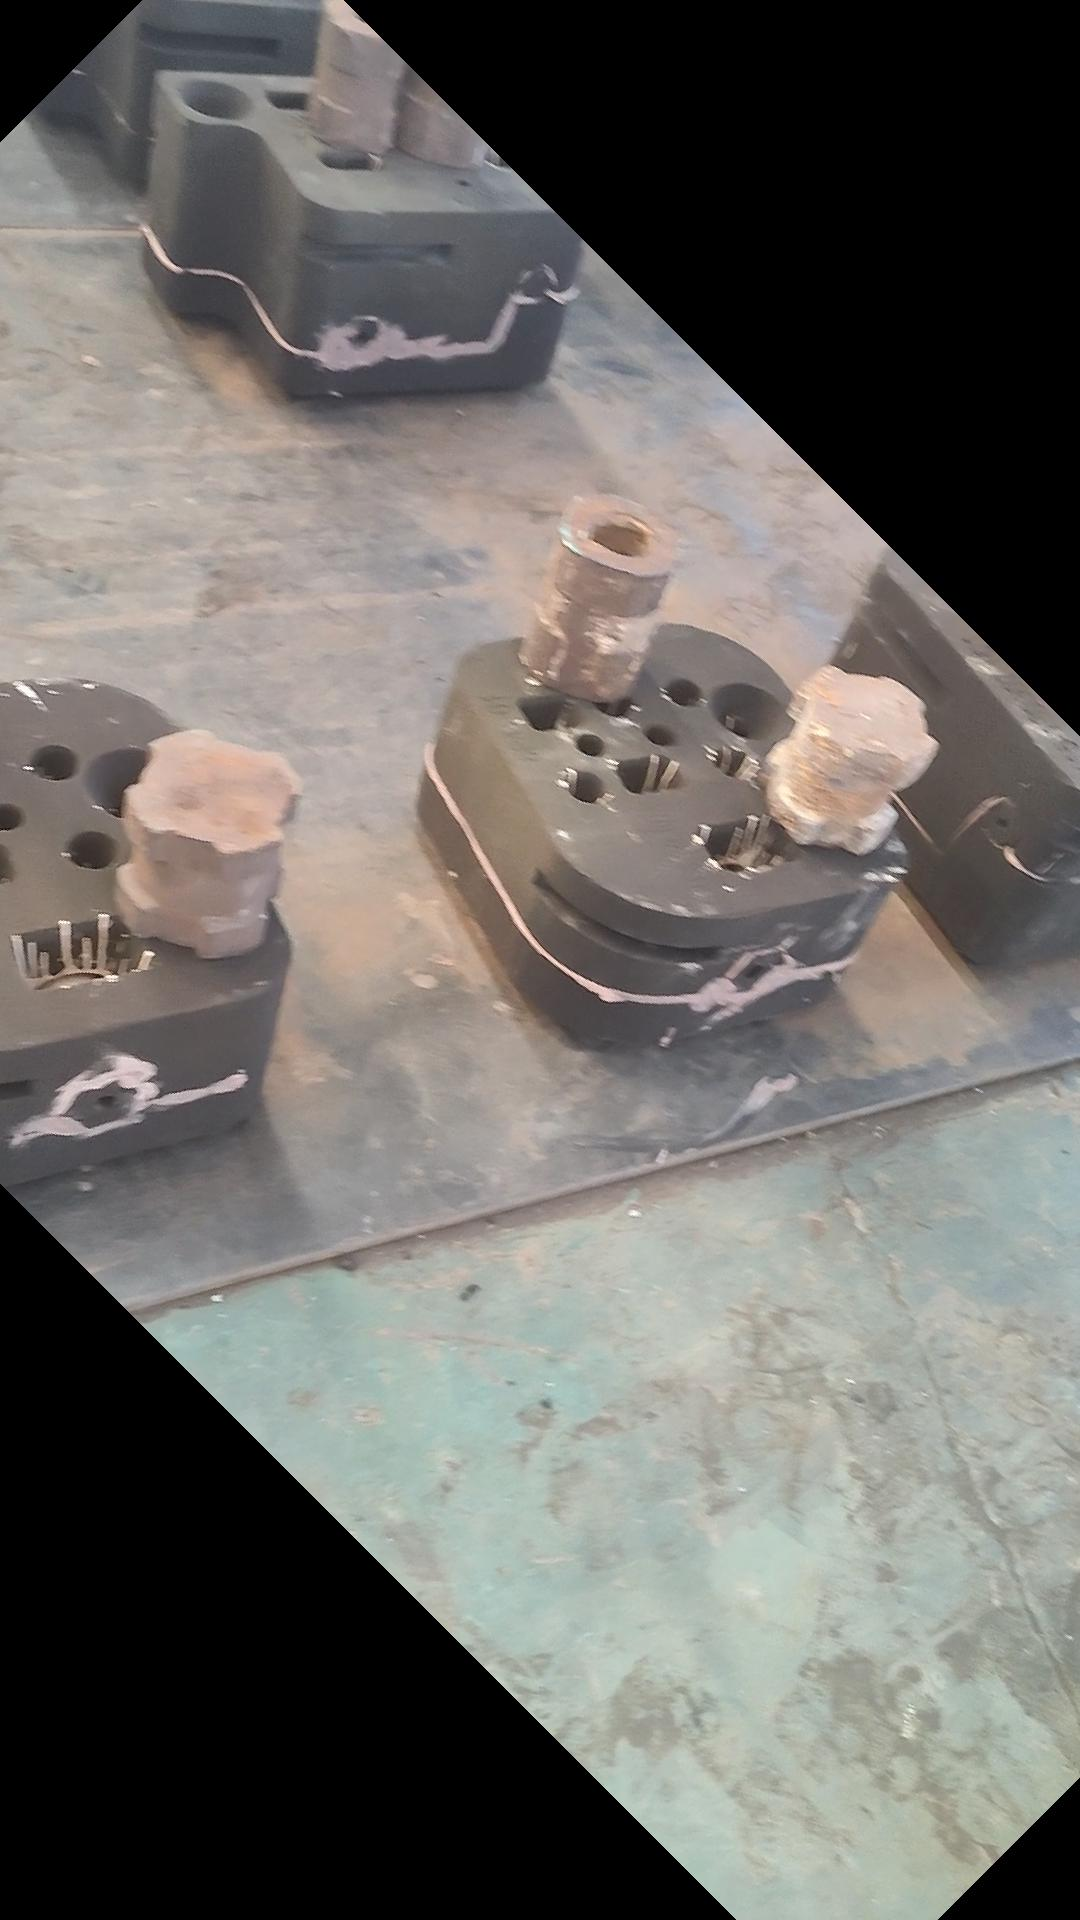pouring hole: (79, 744, 175, 820), (709, 682, 796, 742), (177, 78, 257, 123)
